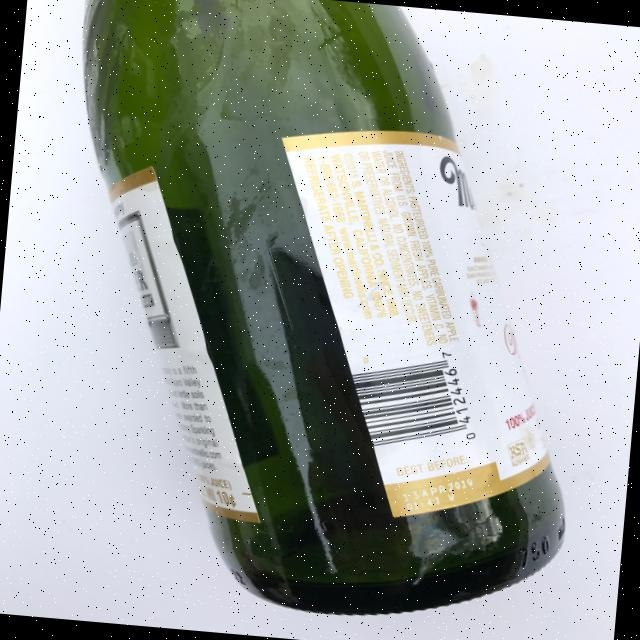glass: (31, 0, 610, 635)
